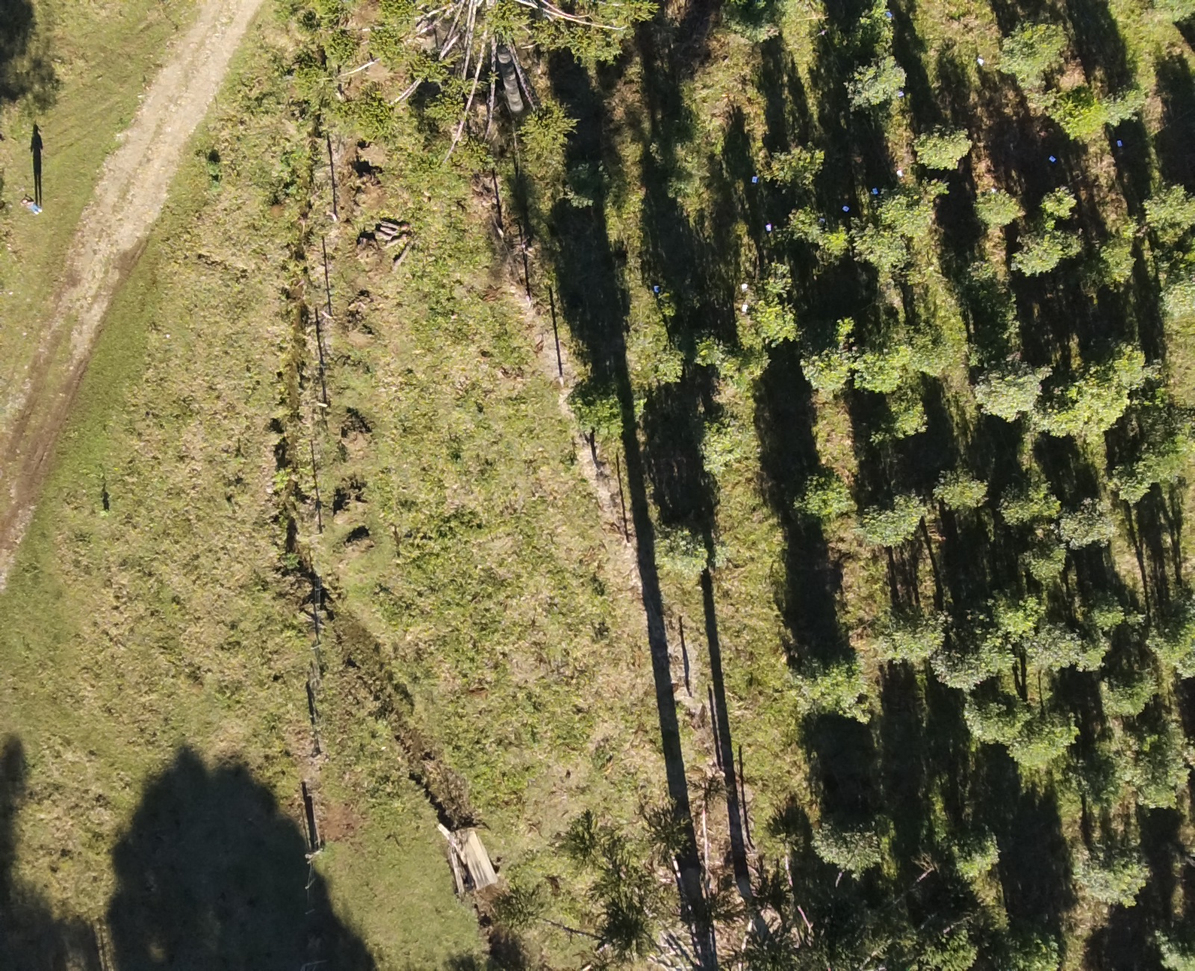erva: (969, 358, 1046, 427), (646, 512, 715, 583), (563, 385, 631, 457), (993, 15, 1074, 74), (840, 55, 917, 113), (1050, 376, 1109, 441), (690, 411, 747, 474), (1008, 721, 1078, 772), (957, 694, 1029, 742), (930, 462, 992, 516), (914, 122, 976, 175), (804, 467, 861, 524), (857, 498, 923, 547), (982, 582, 1045, 633), (1056, 87, 1111, 145), (856, 223, 907, 285), (759, 134, 814, 190), (1125, 759, 1179, 816), (1008, 229, 1084, 269), (745, 298, 802, 350), (628, 344, 688, 392), (1105, 332, 1156, 388), (874, 608, 933, 656), (1099, 680, 1153, 731), (1008, 468, 1056, 523), (974, 183, 1034, 226), (1131, 440, 1180, 488), (1148, 184, 1194, 235), (920, 648, 975, 688), (969, 630, 1014, 678), (1100, 242, 1143, 291), (1073, 504, 1128, 542), (1038, 627, 1076, 682), (1014, 545, 1061, 588), (855, 347, 906, 386), (805, 343, 845, 392), (1081, 595, 1125, 638), (881, 398, 936, 431), (1157, 276, 1194, 325), (901, 204, 949, 241), (729, 346, 784, 378), (693, 321, 730, 367), (1105, 81, 1146, 119), (777, 204, 814, 245), (1110, 465, 1145, 508), (871, 183, 905, 226), (1041, 176, 1076, 217), (915, 170, 949, 208), (1075, 642, 1113, 673), (814, 228, 845, 261)
